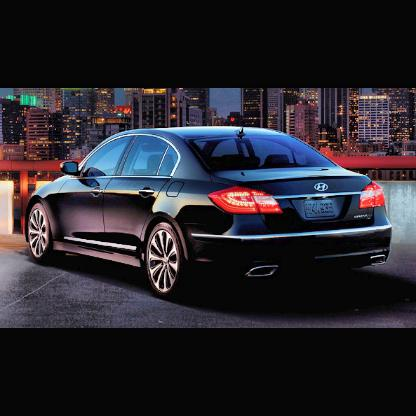Hyundai Genesis Sedan 2012: (26, 127, 395, 300)
